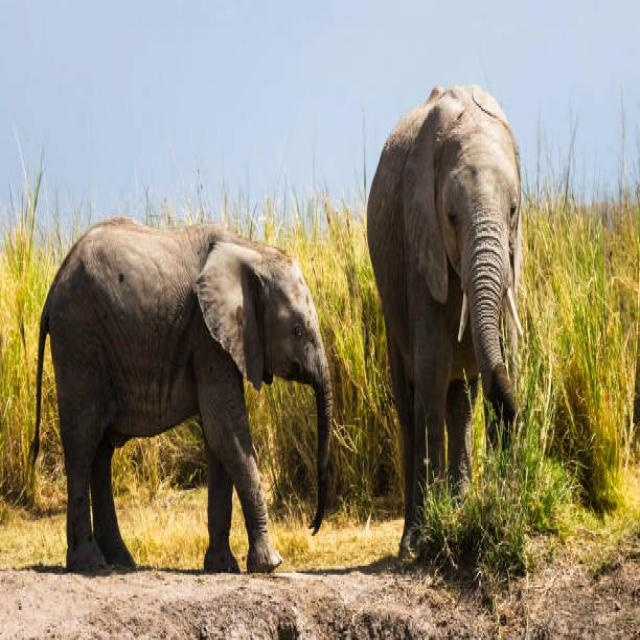Elephant: (23, 195, 344, 610), (355, 39, 539, 582)
